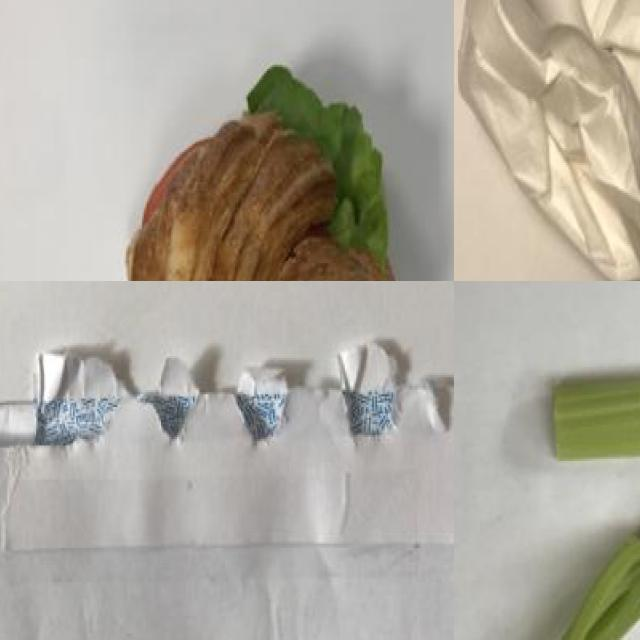compost: (92, 35, 427, 281), (511, 339, 640, 640)
paper: (0, 369, 454, 640)
trash: (454, 0, 640, 281)
